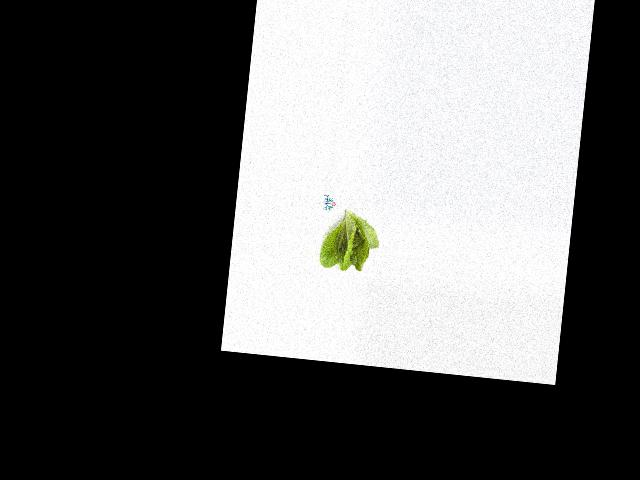lettuce: (319, 207, 383, 276)
